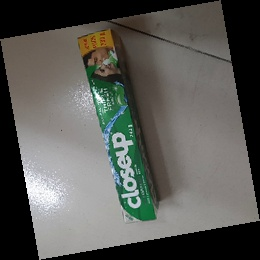CloseUp Xanh: (78, 27, 163, 225)
